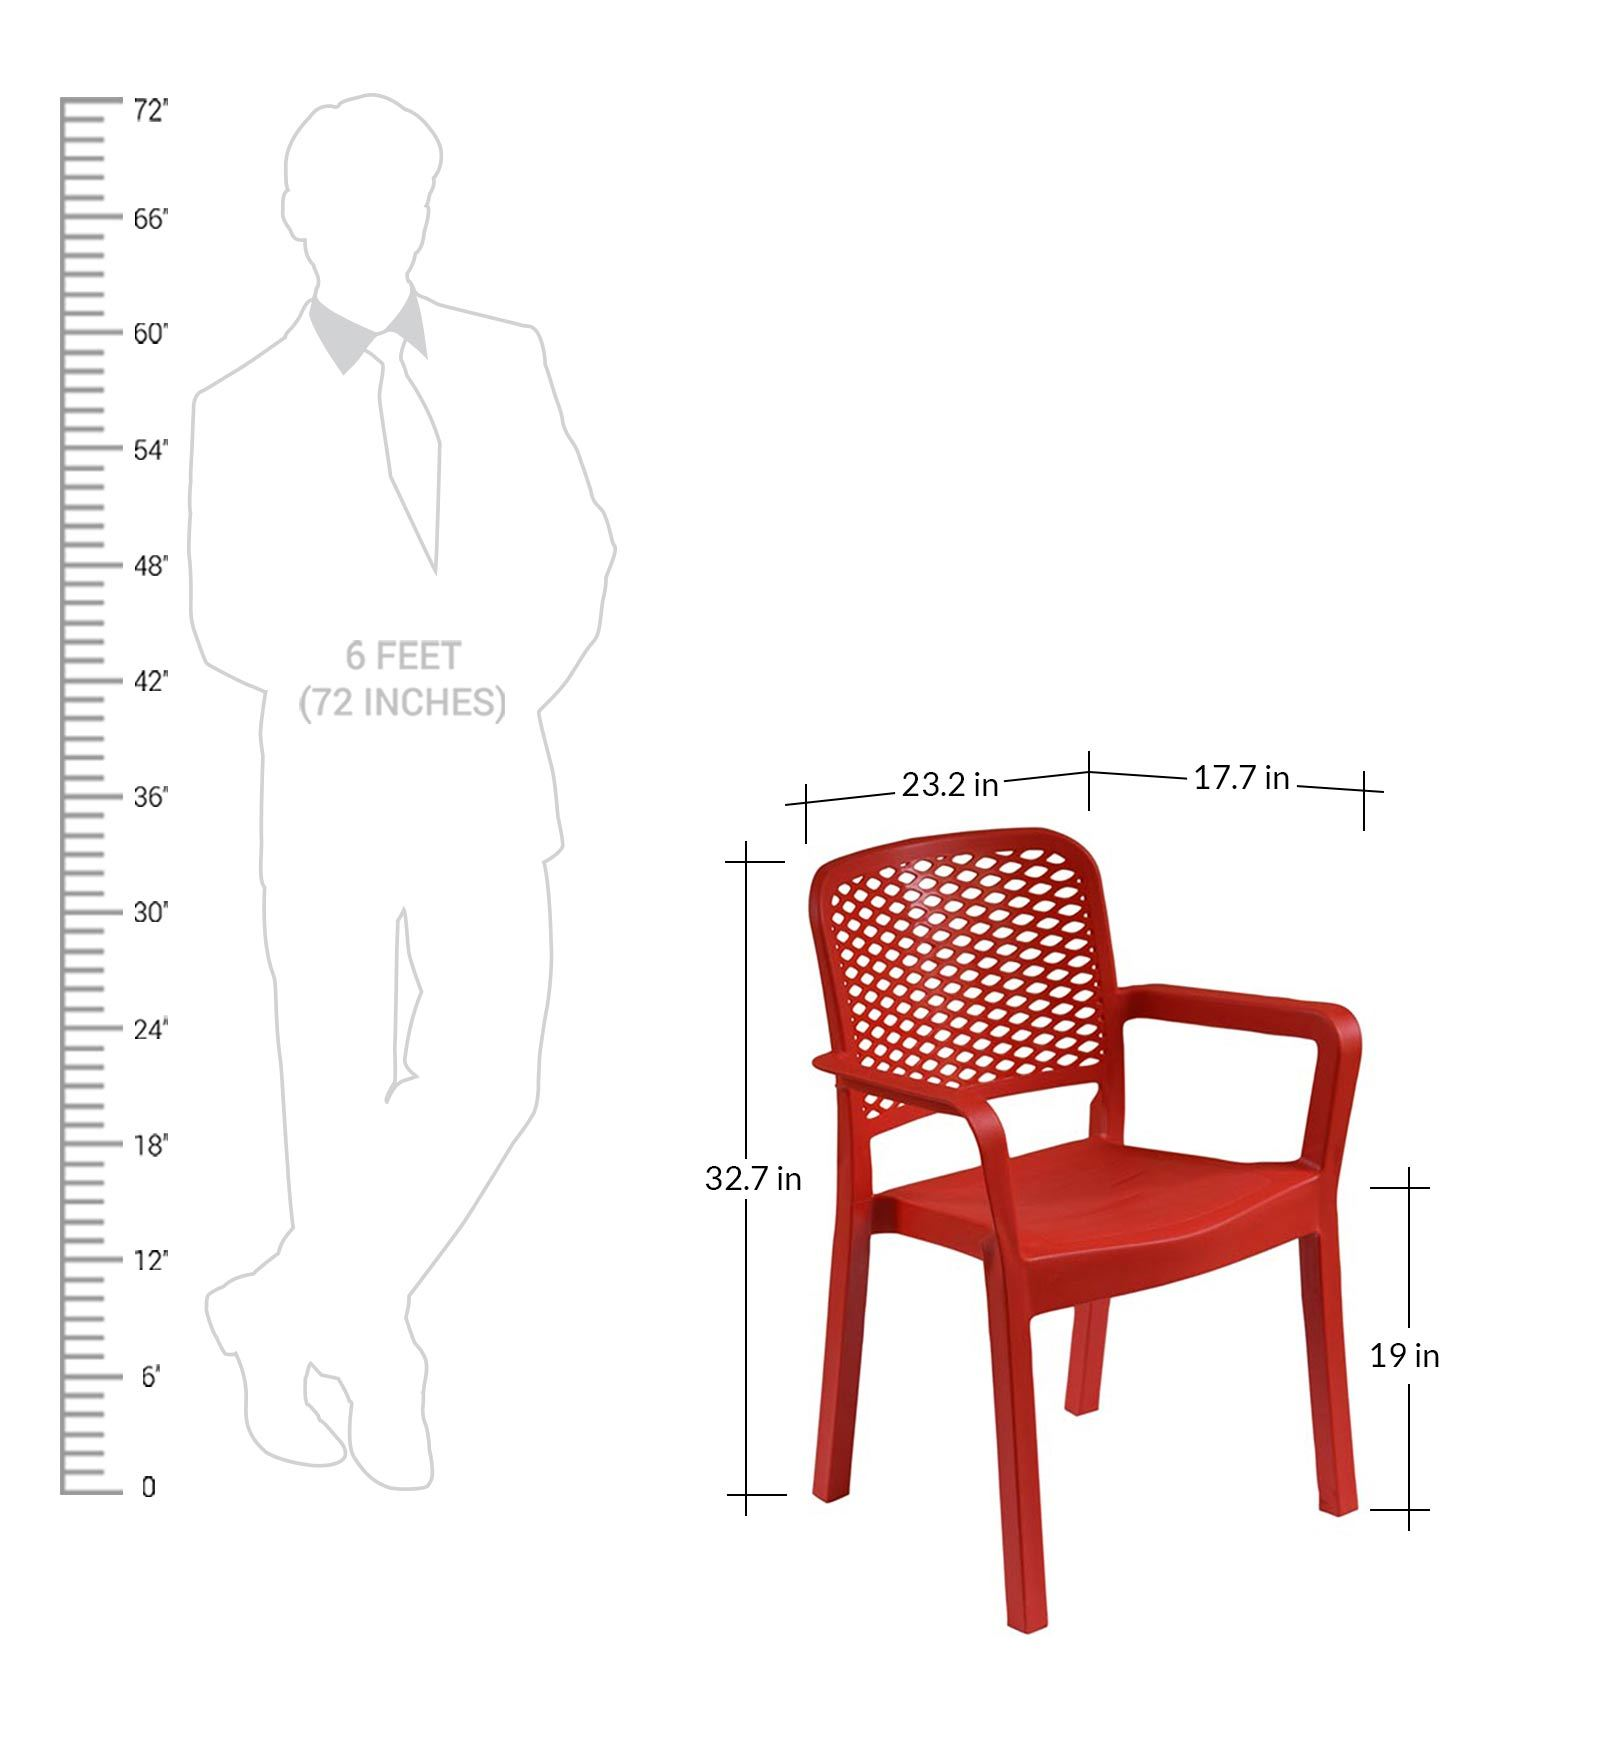Luxury Plastic Chair in Red Colour by Italica Furniture: (798, 837, 1370, 1637)
